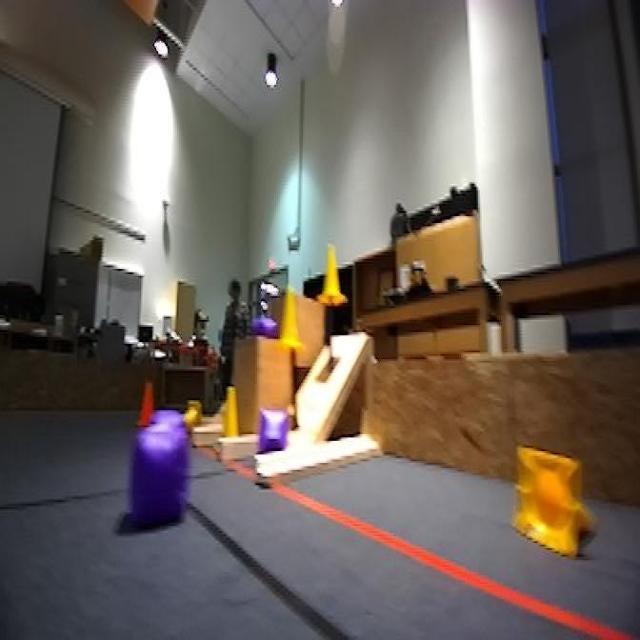frc_cone: (510, 436, 598, 570), (319, 240, 350, 306), (281, 294, 308, 352), (172, 403, 212, 432), (222, 381, 240, 434)
frc_cube: (134, 425, 196, 526), (258, 407, 294, 451), (262, 311, 287, 349)
